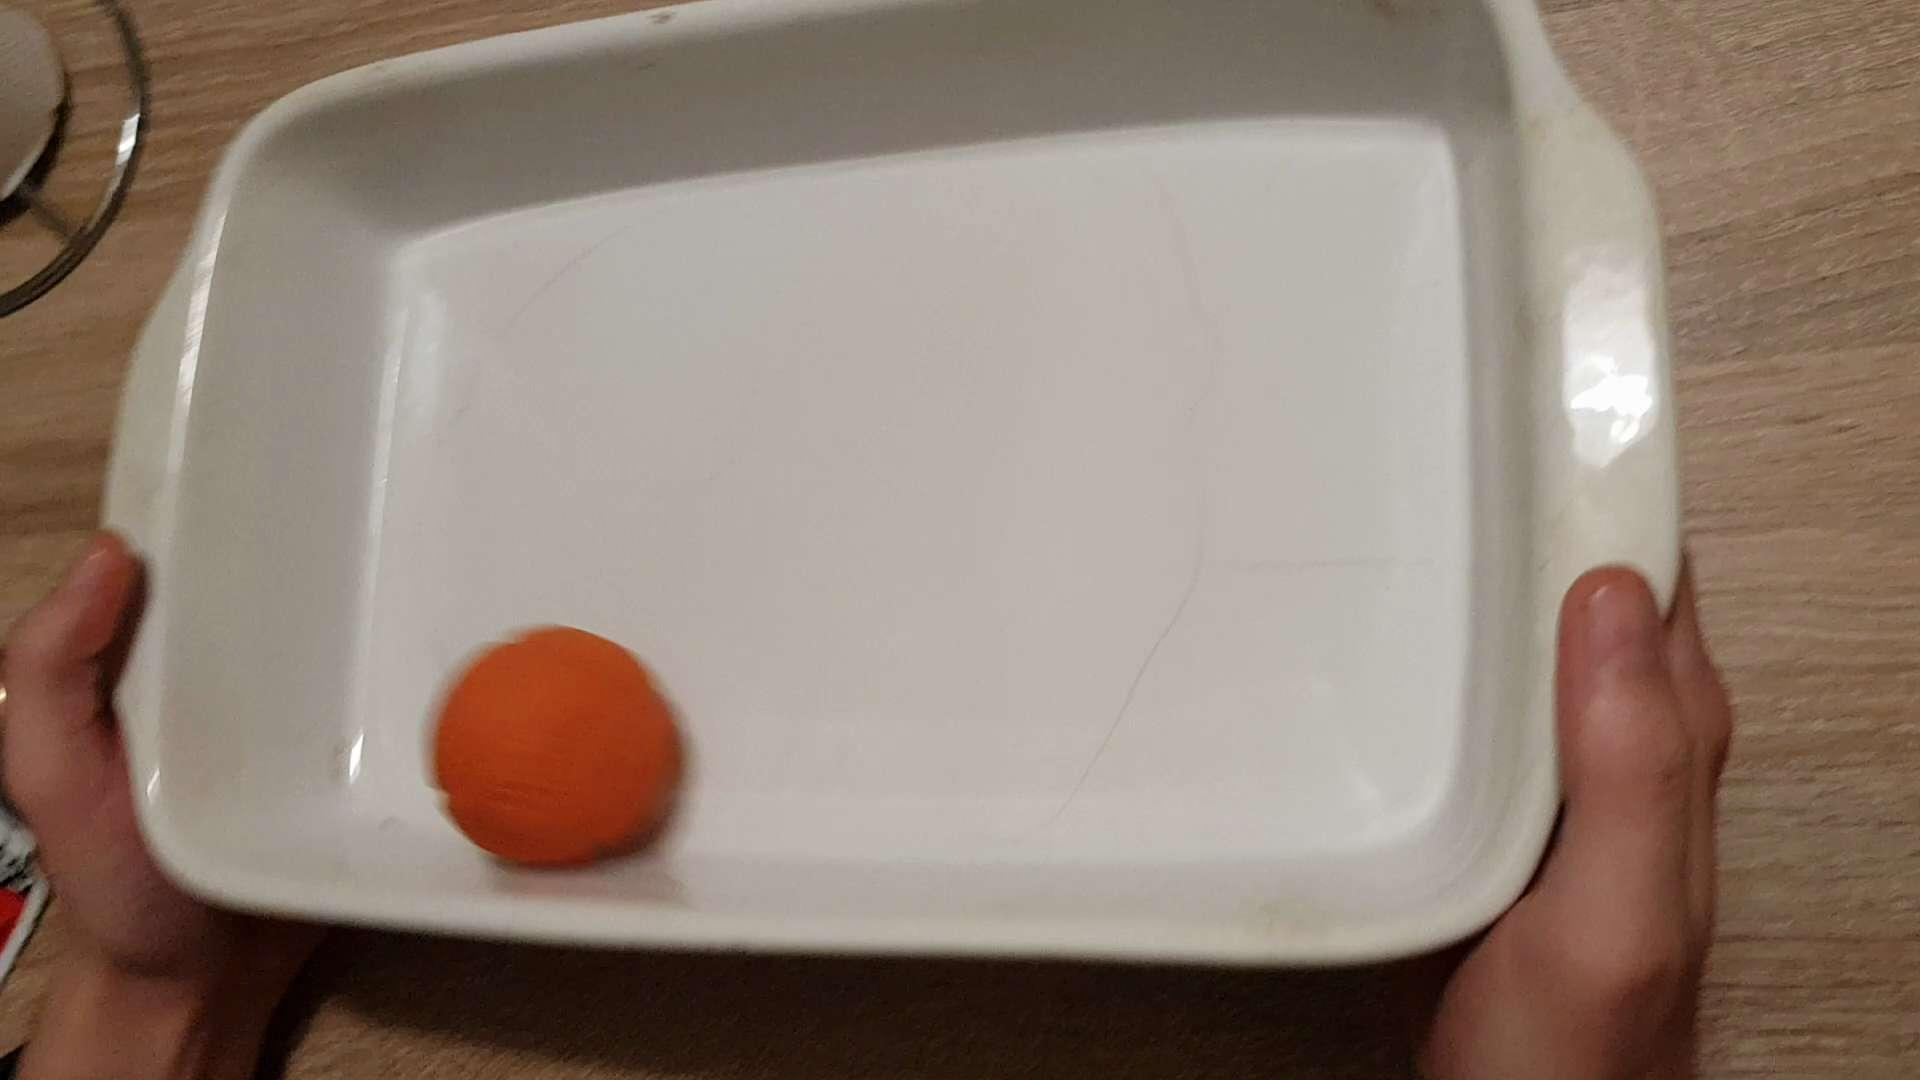sphere: (415, 616, 688, 872)
